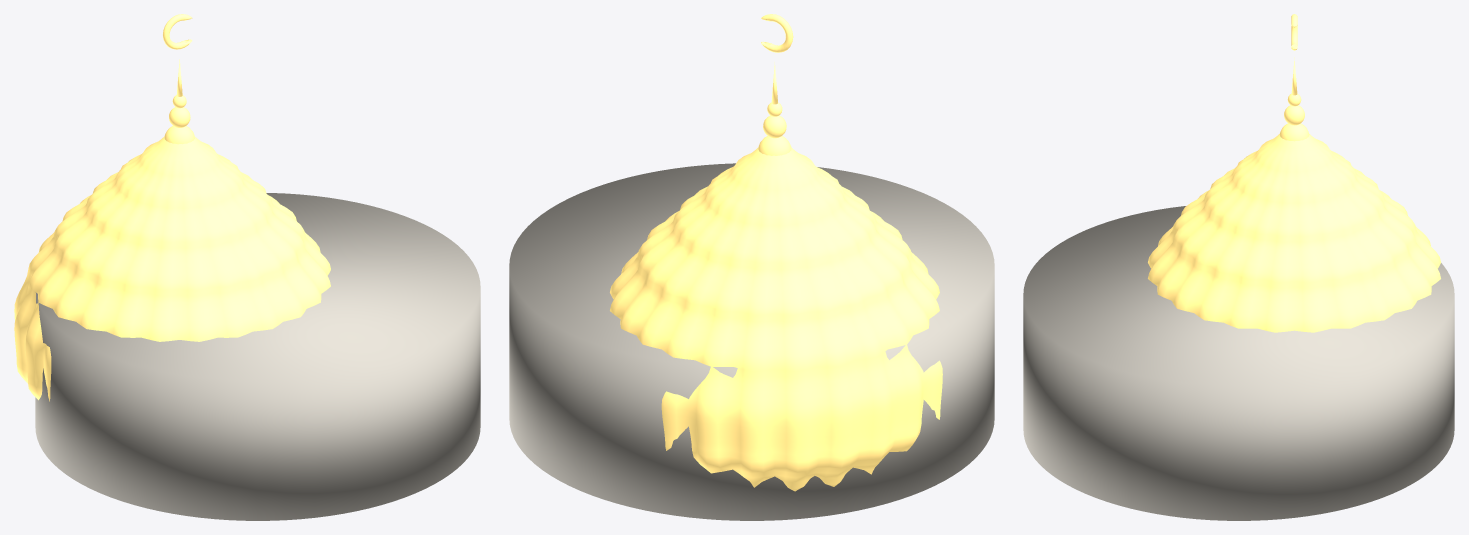
File: dome_ribbed.glb
The picture shows the model from 3 angles, left to right: view 1: azimuth 30°, elevation 25°; view 2: azimuth 150°, elevation 25°; view 3: azimuth 270°, elevation 25°; orthographic projection. The views are drawn at different scales.
Parts seen in each view (by area): view 1: ribbed; view 2: ribbed; view 3: ribbed.
Boxes of the visible parts, x1,y1,x2,y2 form: ribbed: (14, 14, 480, 520); ribbed: (509, 14, 994, 520); ribbed: (1023, 14, 1454, 520).
Bounding box in the file's own units: 1.44 × 1.44 × 1.44.
